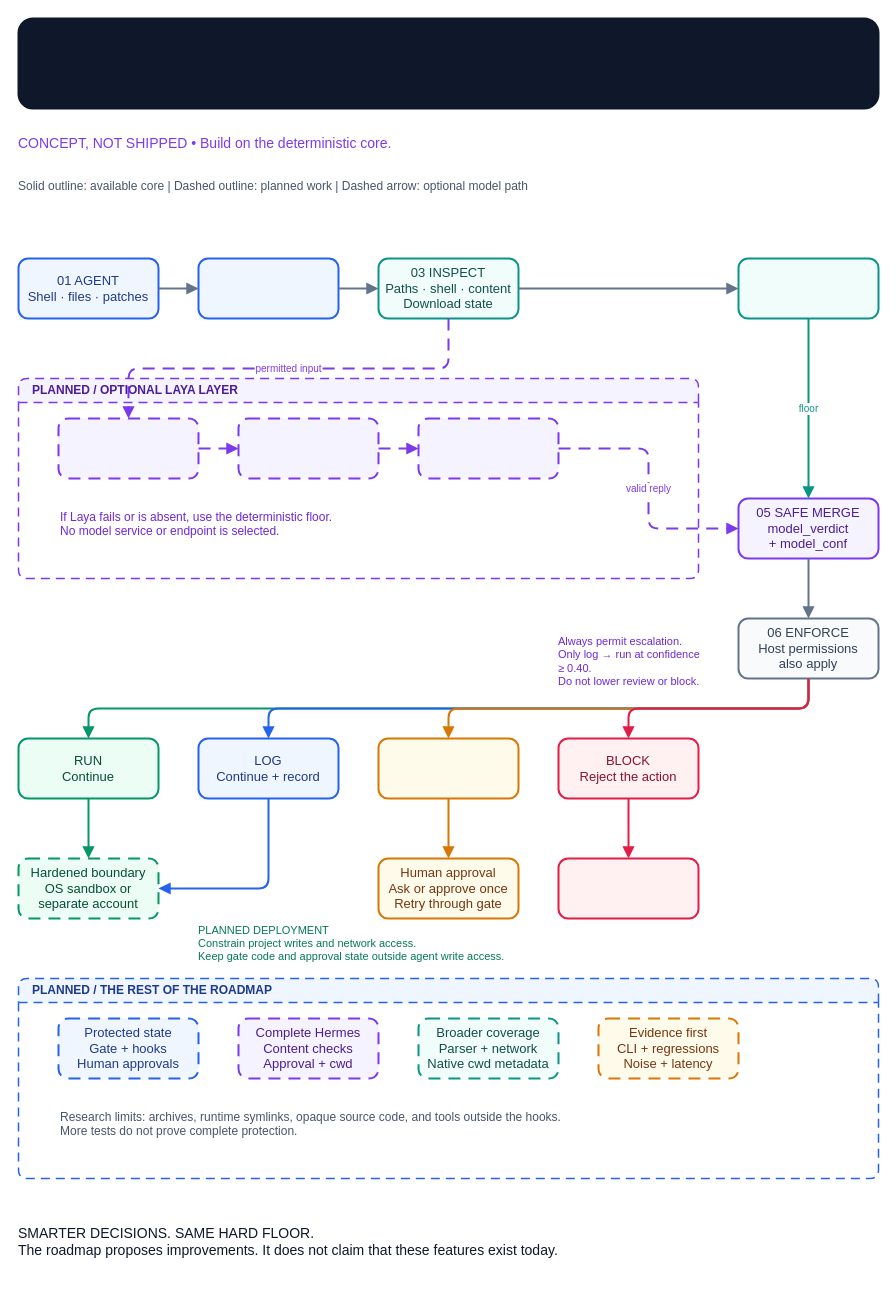
Image size: 896x1290. Some labels were removed from this diagram. The shapes that lost their labels are listed below. From the top down, each one's centre as x and y in pixels, then its label:
At [448,63]: "NEXT GROOVE agent-gate · proposed future architecture".
At [268,288]: "02 ADAPTERS Claude · Codex Hermes*: planned".
At [808,288]: "04 POLICY FLOOR Deterministic rules No model required".
At [128,448]: "Permitted input Apply data rules Protect secrets".
At [308,448]: "Laya decision Typed verdict Numeric confidence".
At [488,448]: "Validate reply Schema + deadline Failure: keep floor".
At [448,768]: "REVIEW Wait for a person".
At [628,888]: "STOP No tool execution".
